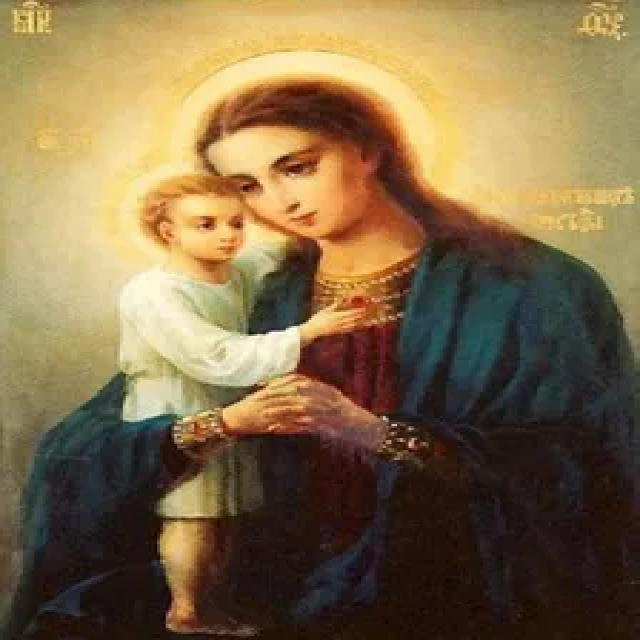mother of god: (18, 63, 640, 638)
